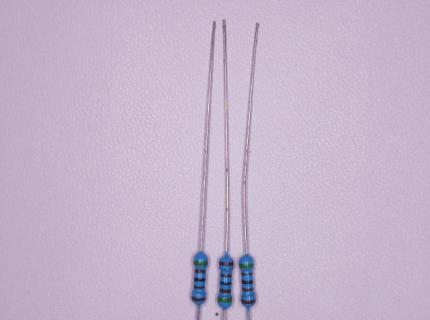Black band: (220, 281, 232, 285), (194, 278, 205, 282), (242, 280, 253, 284)
Brown band: (219, 261, 234, 266), (191, 297, 205, 302), (242, 300, 255, 304), (220, 274, 232, 278), (195, 269, 206, 273), (220, 289, 231, 293), (194, 285, 204, 289), (242, 288, 253, 291), (241, 273, 253, 275)
Green band: (218, 297, 232, 303), (194, 261, 208, 265), (240, 264, 254, 268)
